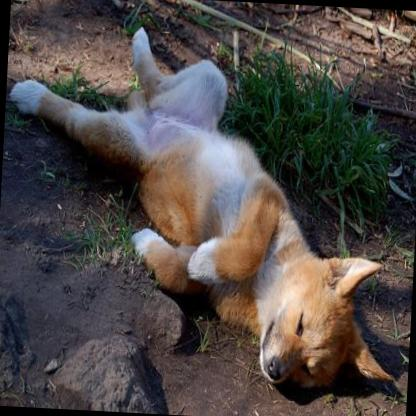dingo: (0, 13, 416, 400)
